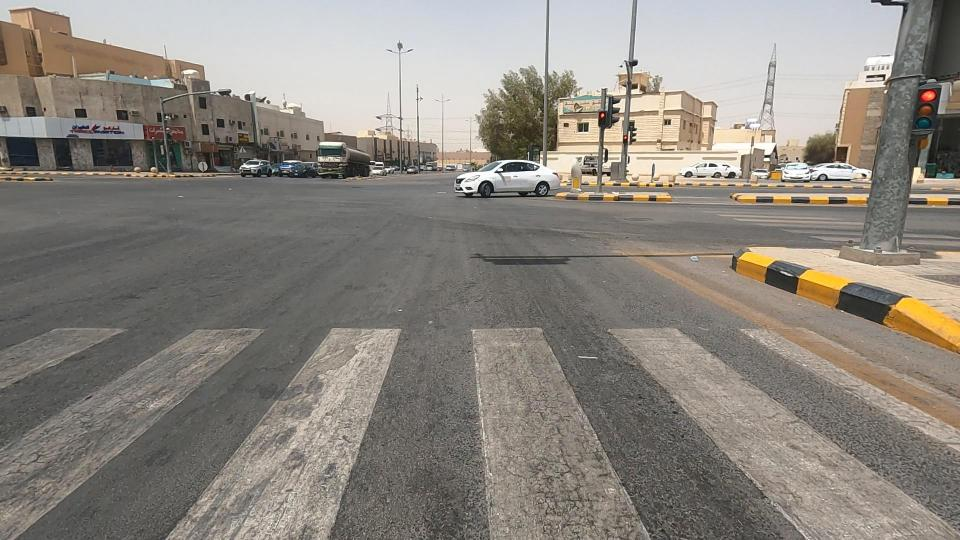GARBAGE: (668, 233, 717, 278)
